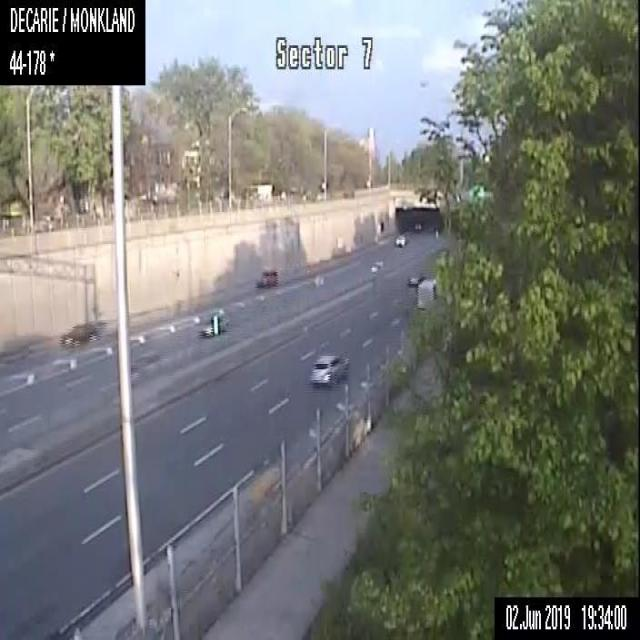vehicle: (308, 353, 346, 384), (61, 322, 97, 347), (195, 318, 223, 338), (416, 276, 434, 307), (256, 268, 276, 285), (406, 274, 422, 286), (394, 232, 406, 245), (370, 260, 382, 272), (413, 222, 422, 230)
